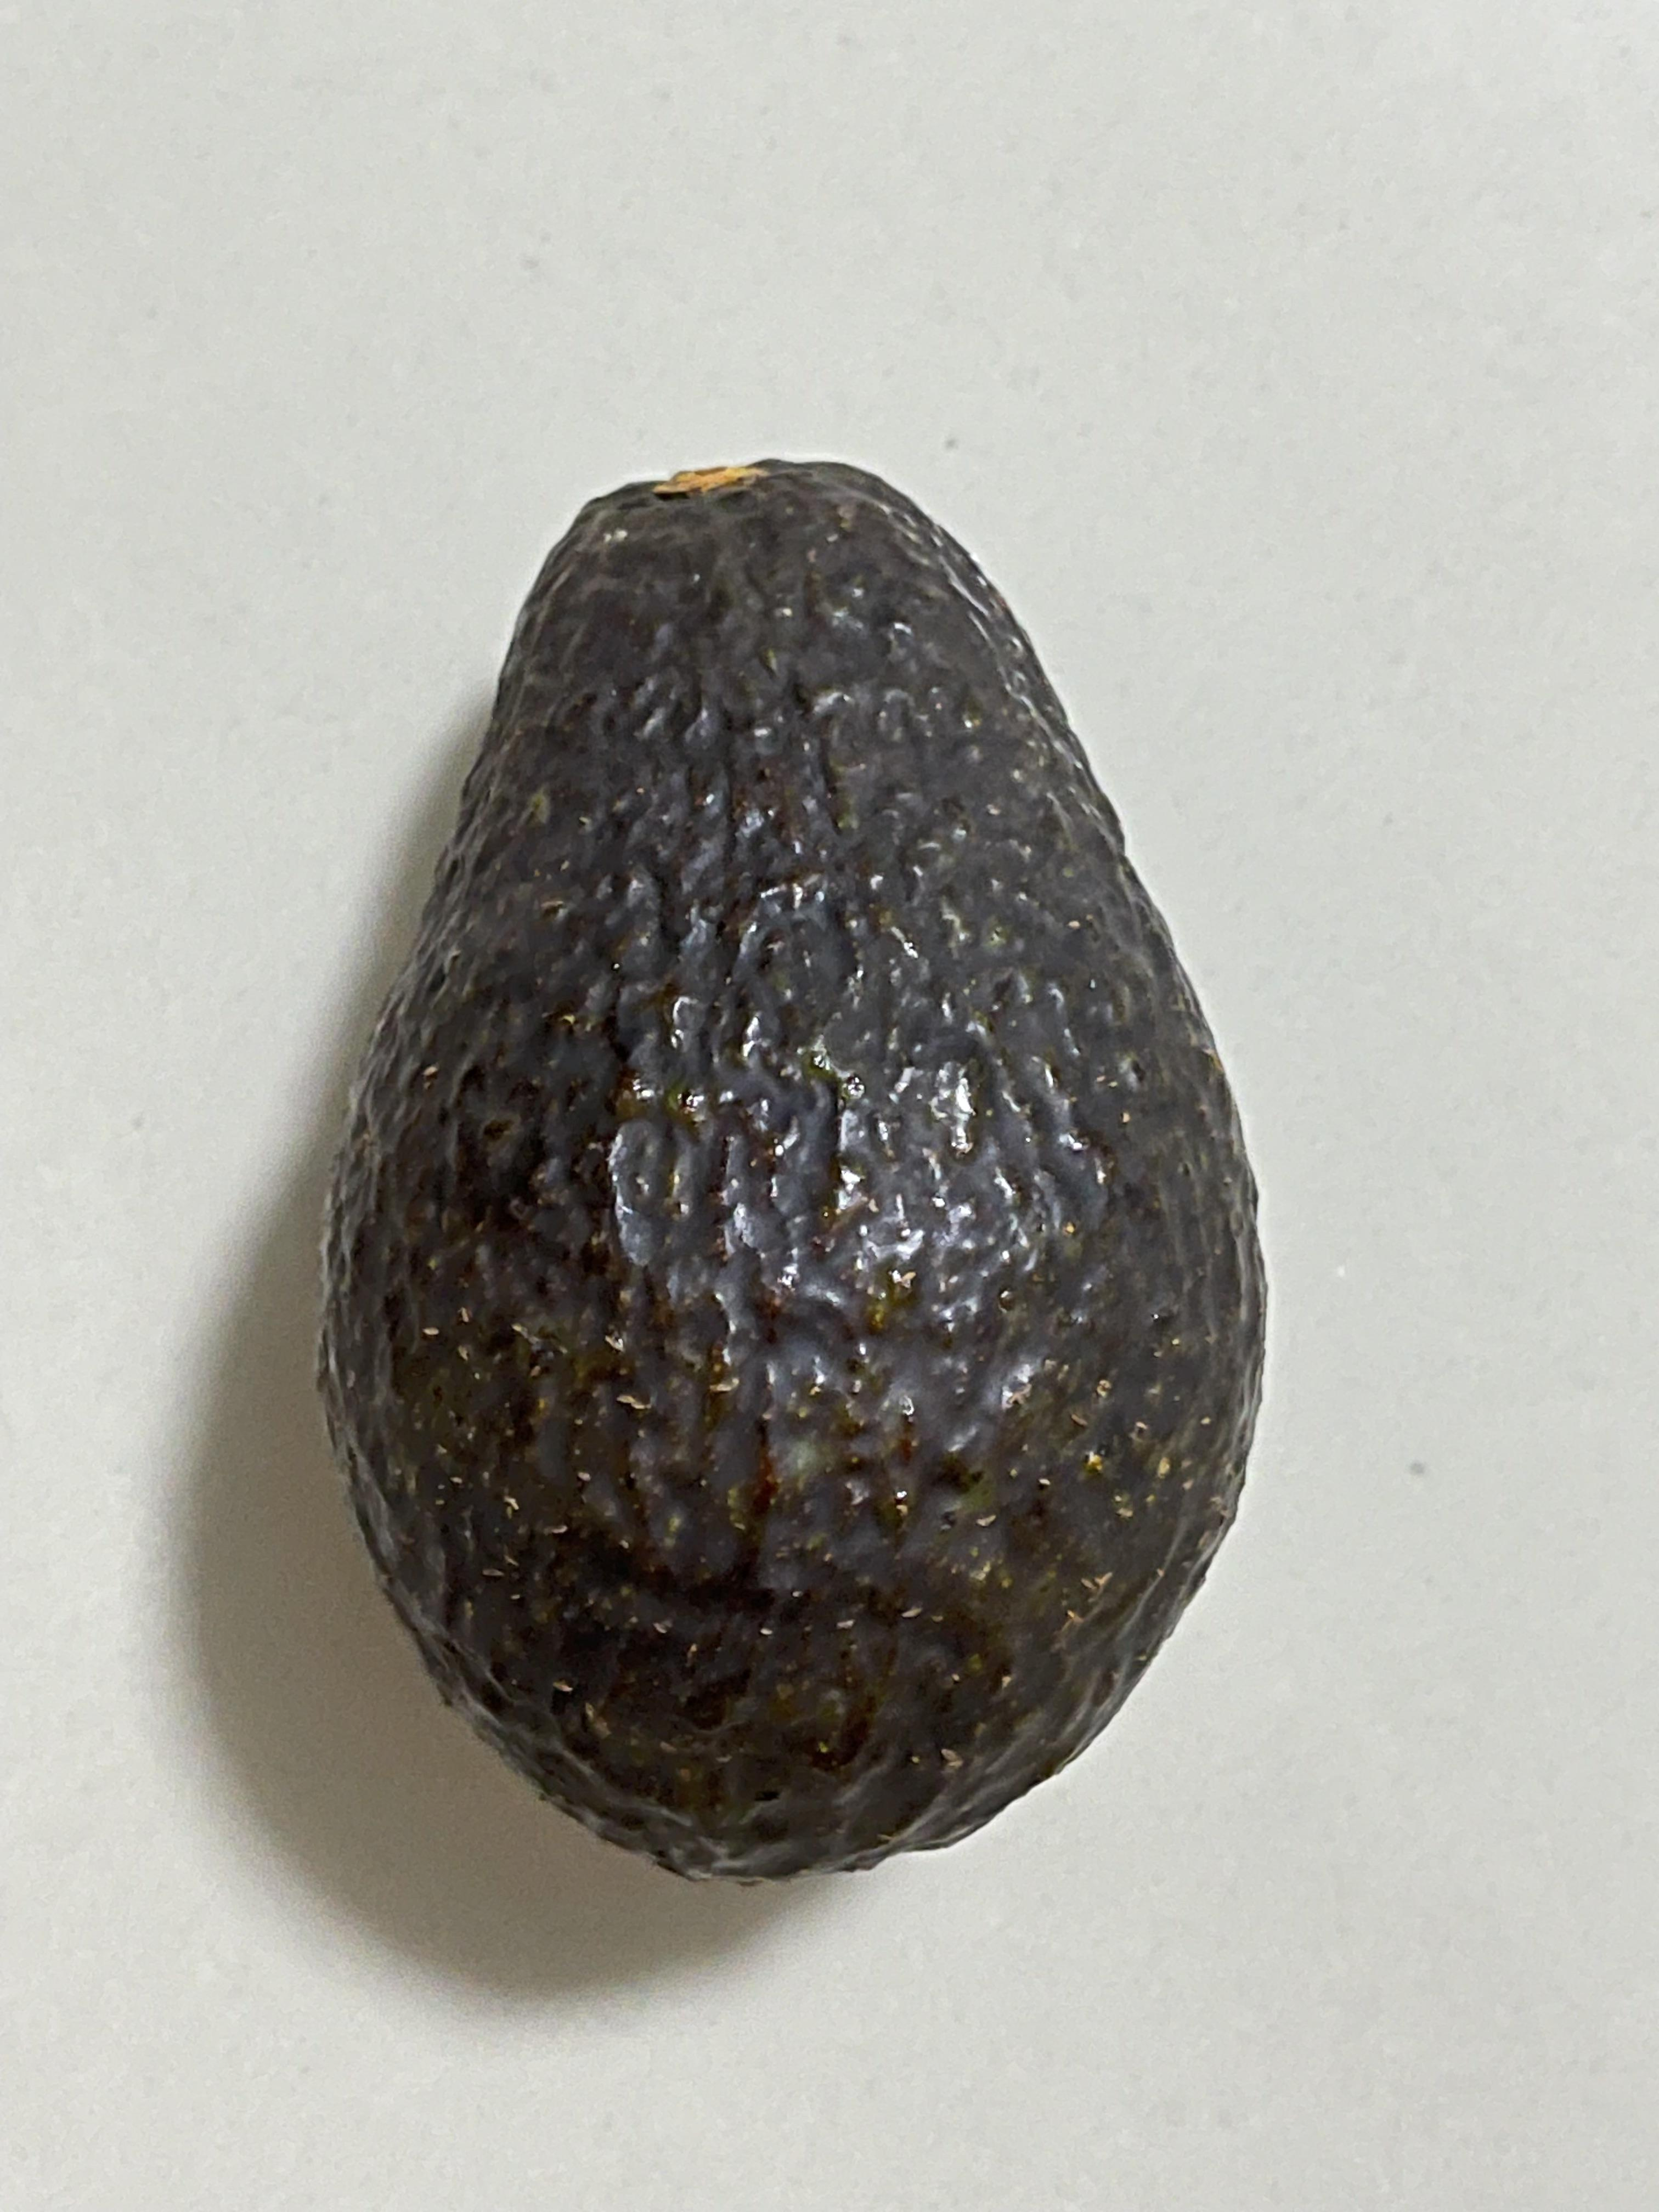Level2: (296, 439, 1279, 1911)
